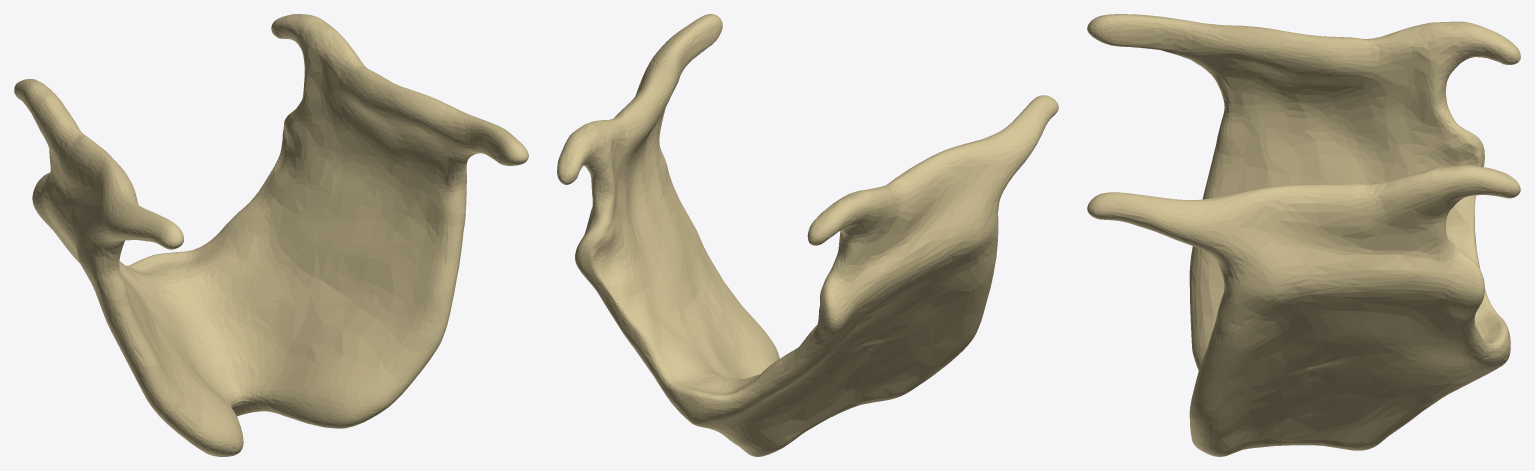
Rendered from thyroide.glb.
3 views of the same model, side by side, from view 1: azimuth 30°, elevation 25°; view 2: azimuth 150°, elevation 25°; view 3: azimuth 270°, elevation 25° (orthographic). The views are drawn at different scales.
Parts seen in each view (by area): view 1: world; view 2: world; view 3: world.
Boxes of the visible parts, x1,y1,x2,y2 form: world: [14, 14, 528, 456]; world: [557, 14, 1058, 456]; world: [1087, 14, 1520, 456].
Size of the model in its own units: 1.26 by 1.04 by 1.15.
